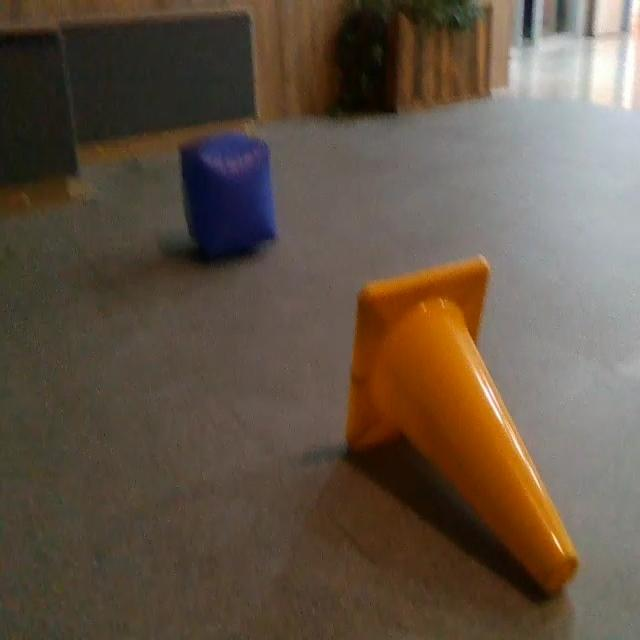cone: (342, 255, 582, 608)
cube: (180, 132, 282, 260)
